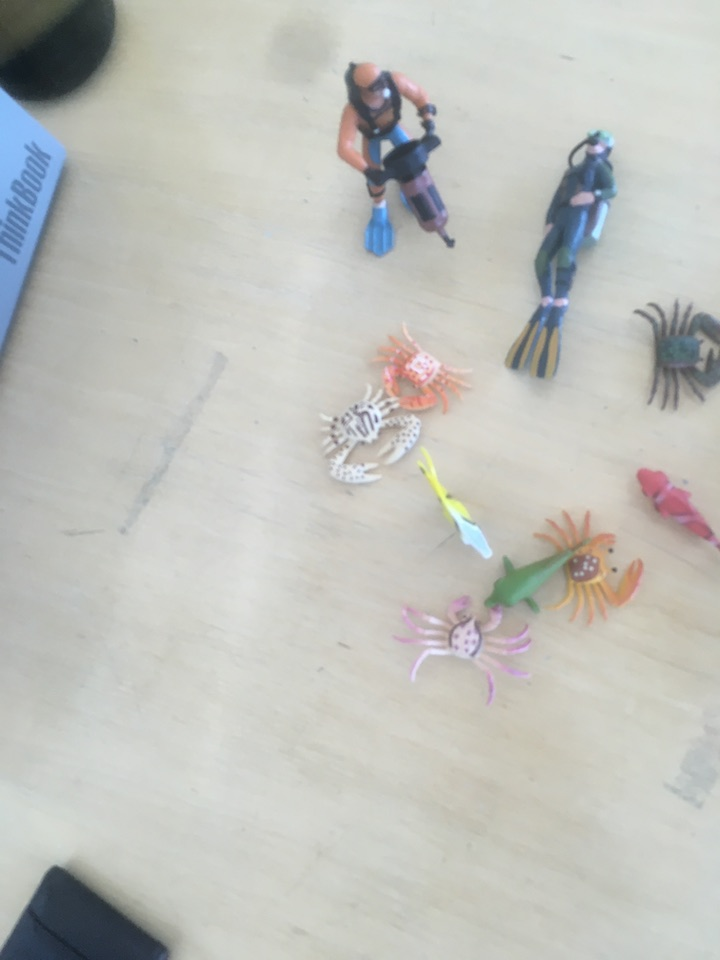crab: (395, 592, 534, 707), (529, 508, 646, 634), (316, 377, 425, 488), (368, 320, 477, 423), (631, 296, 720, 417)
diver: (499, 126, 621, 387), (333, 55, 461, 259)
fish: (475, 538, 598, 617), (631, 462, 720, 554)
